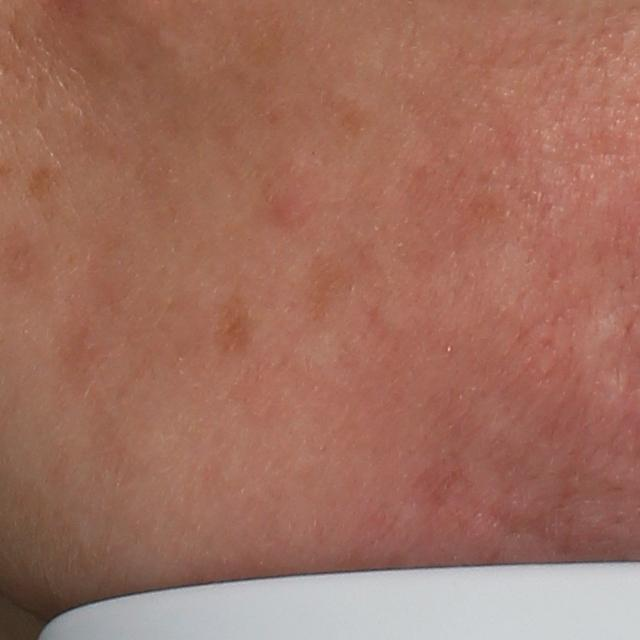hypertrophic_scar: (560, 299, 631, 406)
